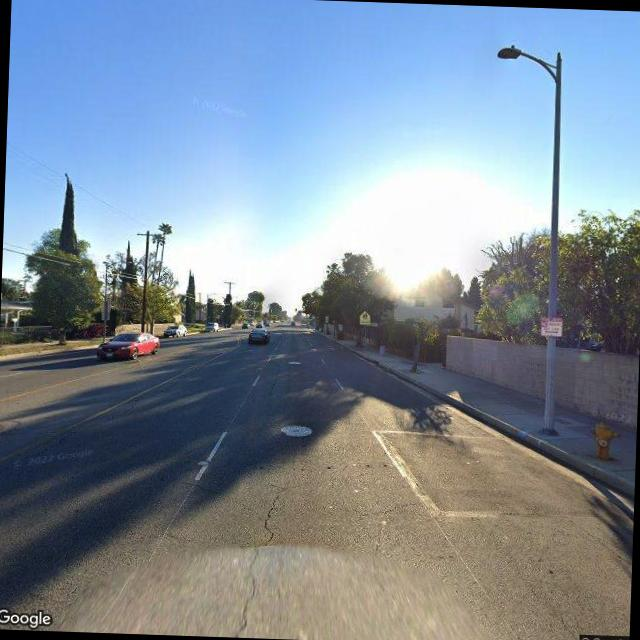crack: (223, 477, 293, 637), (340, 496, 421, 518), (266, 359, 284, 396)
